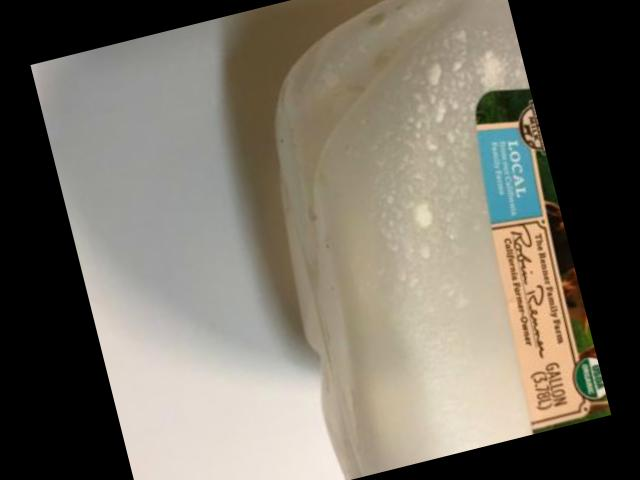plastic: (274, 0, 529, 480)
